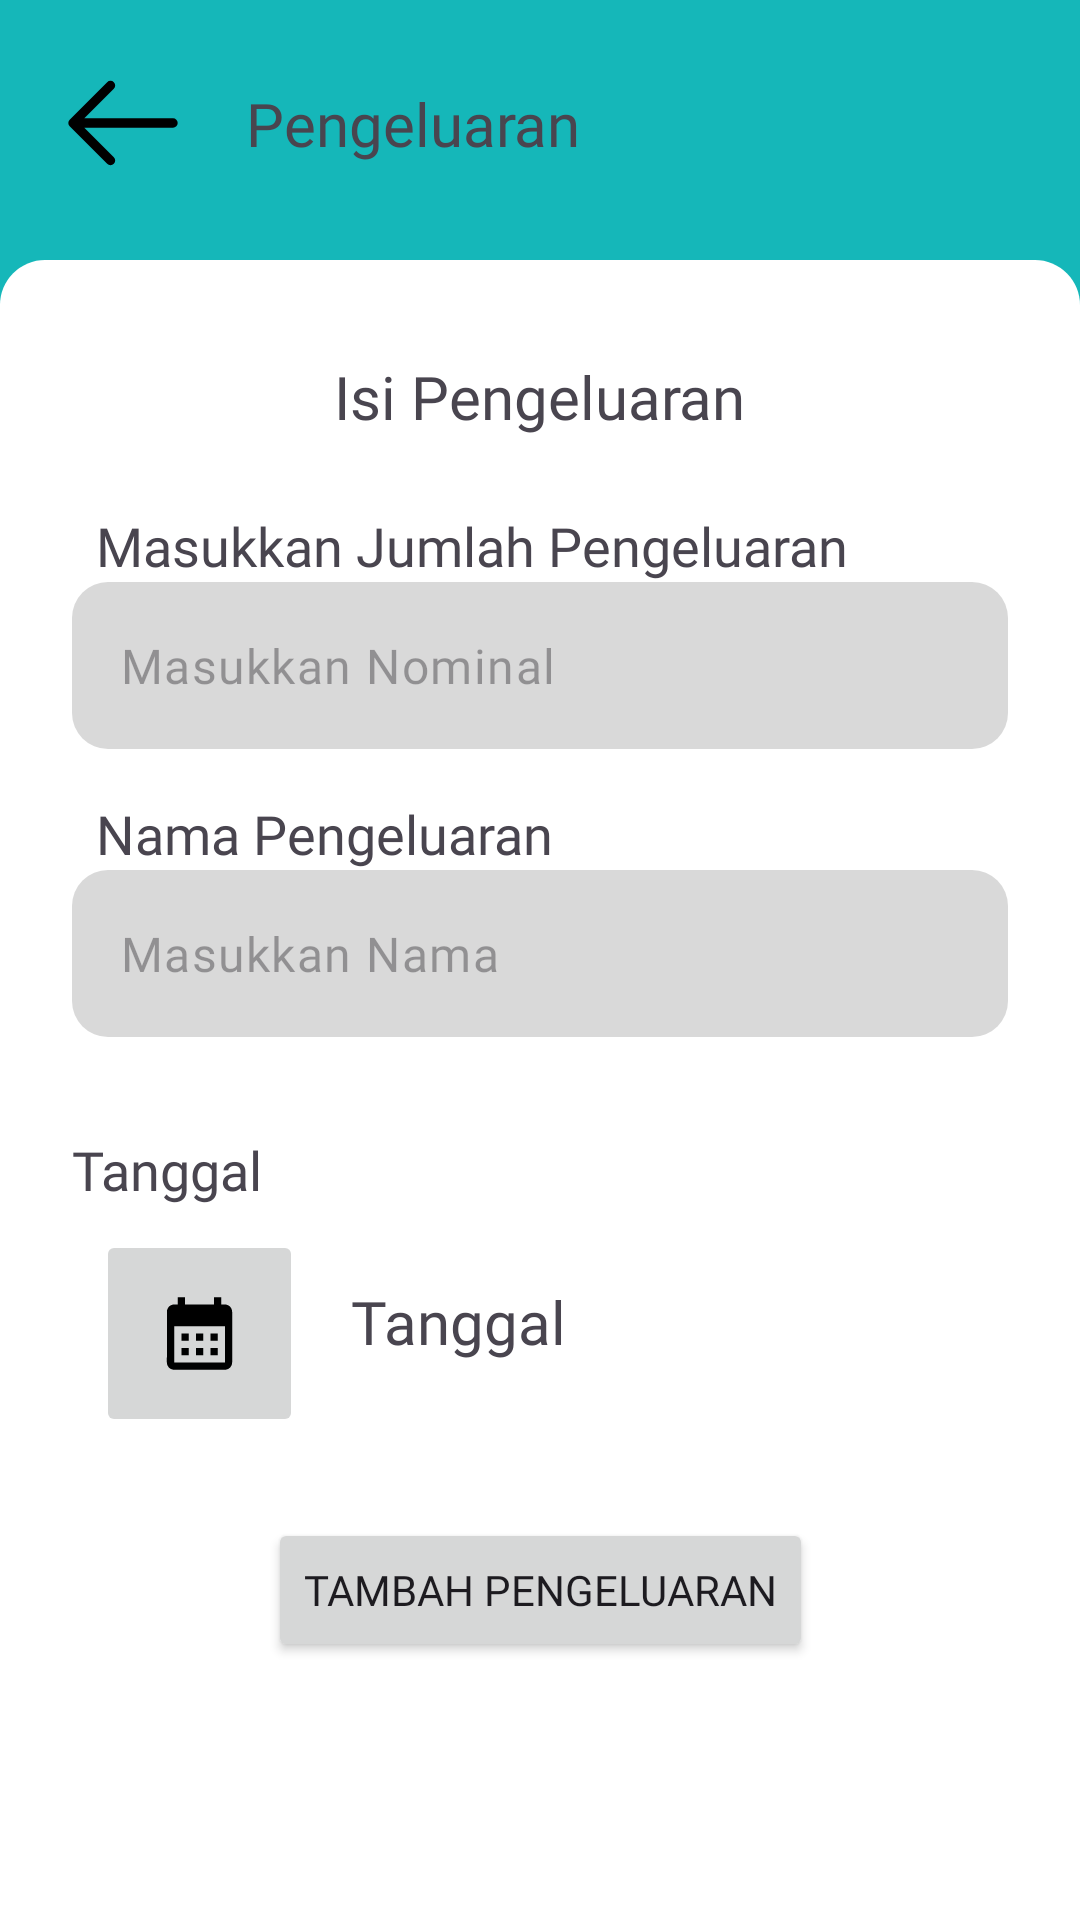

Icons on this 1080px×1920px Android screen, each with the point to tap as (x,y):
back: (123,123)
calendar: (199,1333)
